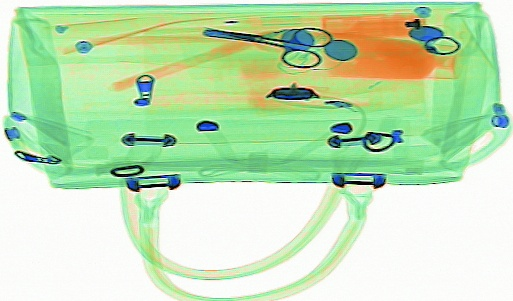scissors: (199, 25, 332, 69)
